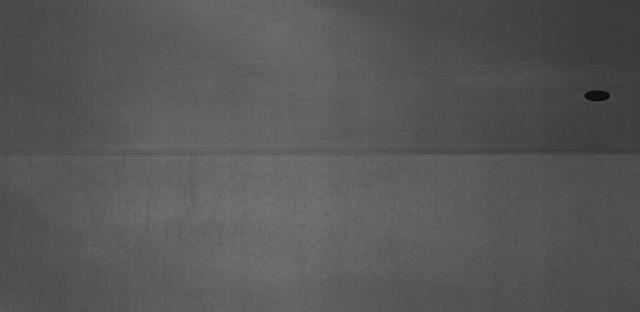punching_hole: (582, 85, 614, 104)
welding_line: (3, 139, 634, 168)
